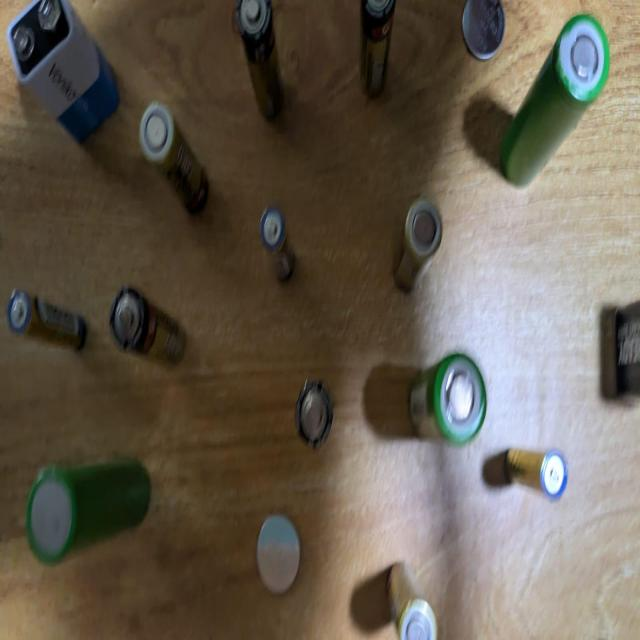9V: (4, 0, 126, 148)
AA: (138, 99, 208, 216), (233, 0, 283, 122), (108, 286, 185, 364), (7, 289, 86, 355), (393, 197, 442, 294), (386, 561, 438, 639), (359, 0, 399, 98), (294, 375, 335, 453), (462, 0, 506, 62)
AAA: (502, 446, 566, 498), (258, 204, 295, 282)
COIN: (256, 509, 306, 596)
